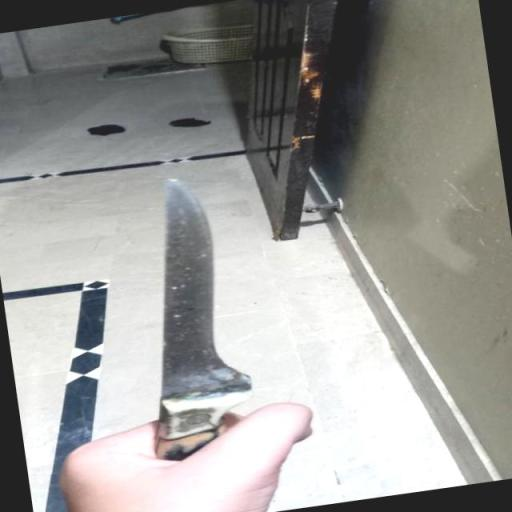knife: (97, 154, 280, 474)
